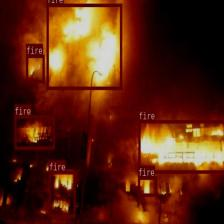fire: (46, 4, 122, 90), (138, 120, 224, 172), (14, 115, 55, 149), (49, 170, 75, 216), (26, 54, 44, 82), (138, 176, 156, 196)
